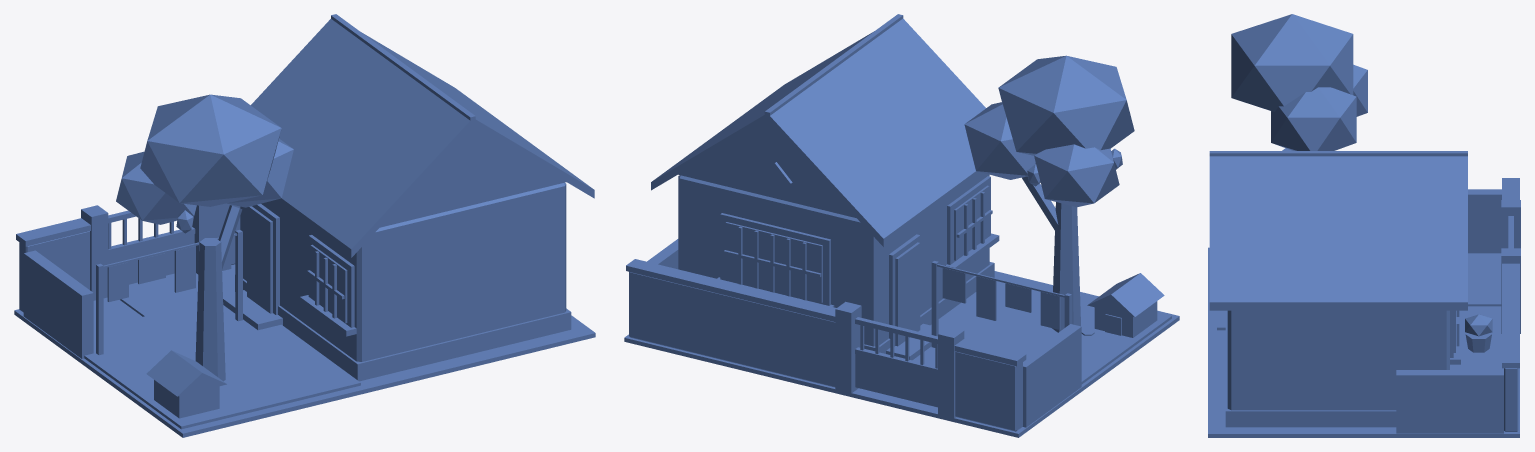
The picture shows the model from 3 angles, left to right: view 1: azimuth 30°, elevation 25°; view 2: azimuth 150°, elevation 25°; view 3: azimuth 270°, elevation 25°; orthographic projection. The views are drawn at different scales.
Visible parts, largest first — view 1: corpo; view 2: corpo; view 3: corpo.
Boxes of the visible parts, x1,y1,x2,y2 form: corpo: (14,14,595,437); corpo: (624,14,1179,437); corpo: (1208,14,1520,437).
Bounding box in the file's own units: 1.23 × 0.832 × 0.8725.
